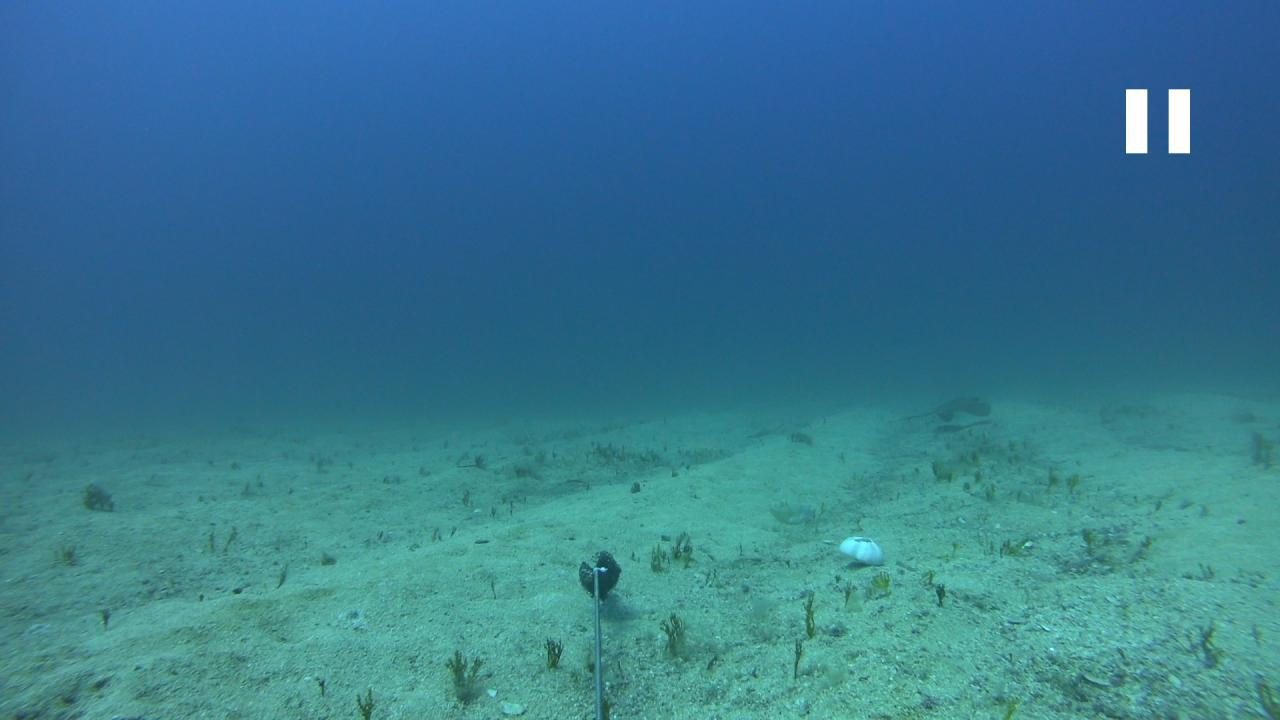dasyatis: (896, 394, 994, 421)
